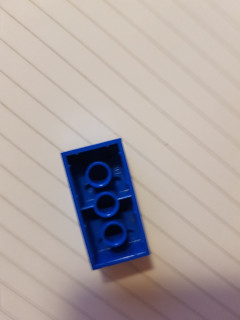2x4 blue: (59, 137, 152, 272)
